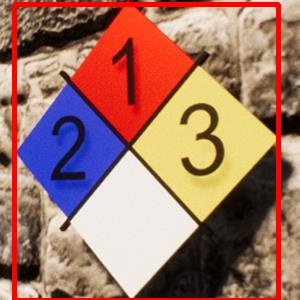nfpa: (14, 4, 278, 300)
